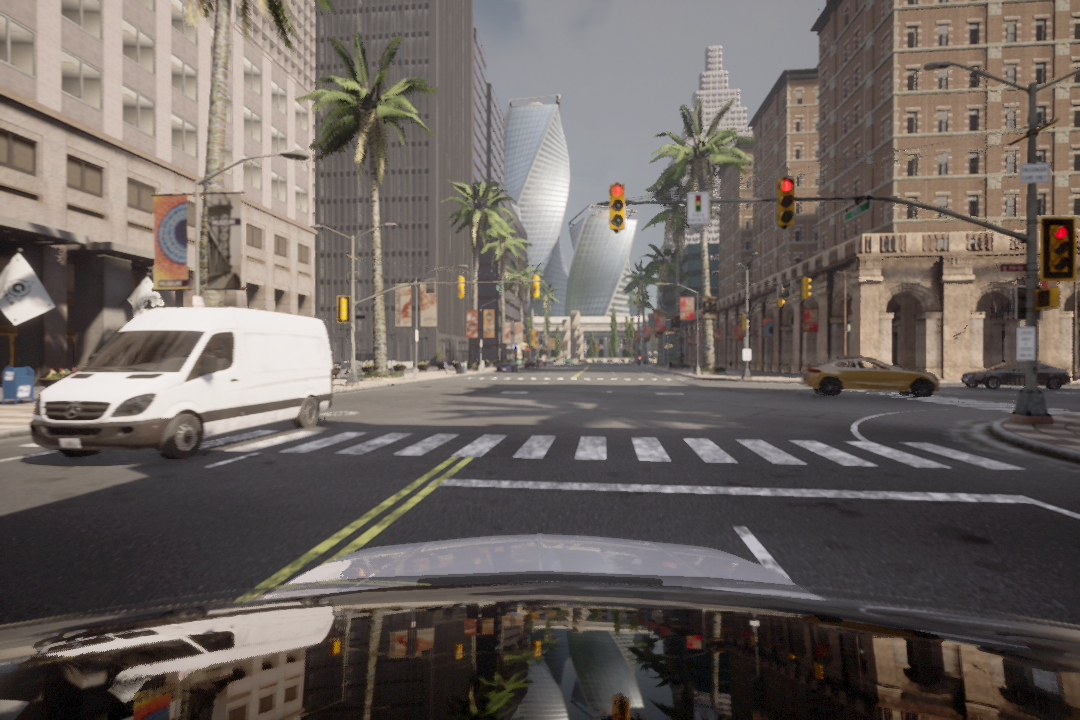TrafficLight: (1044, 216, 1075, 281), (607, 181, 629, 232), (778, 179, 797, 227)
walkside: (196, 416, 1019, 477)
